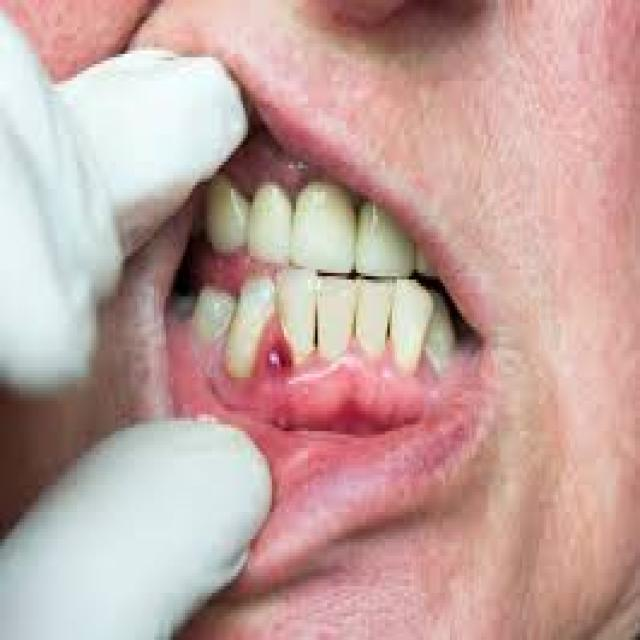abscess: (243, 307, 303, 393)
